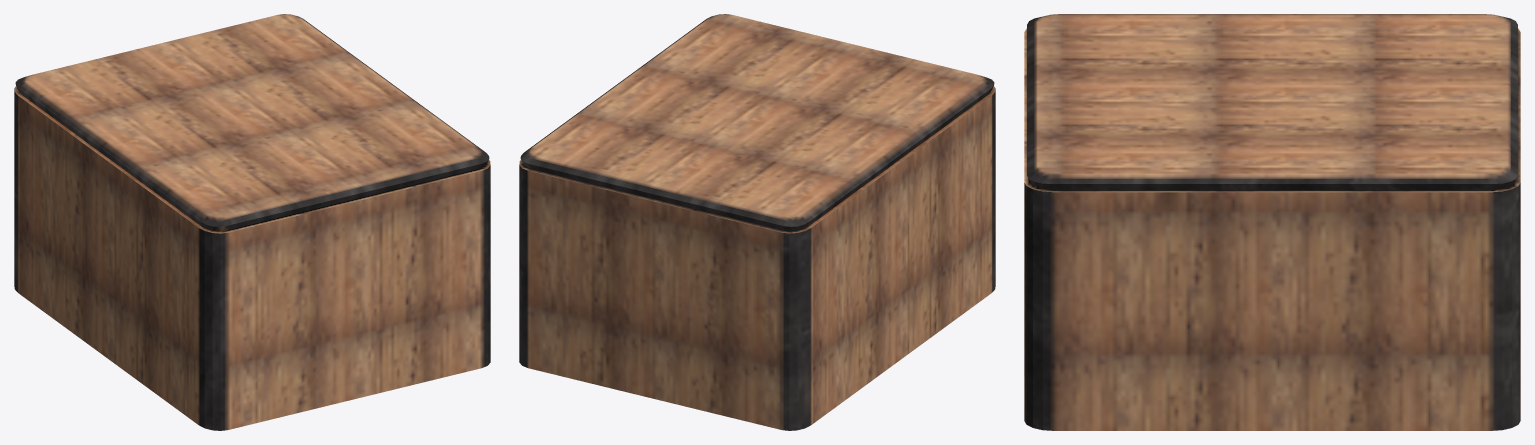
The model's file is chest.fbx.
3 renders of one model, left to right at view 1: azimuth 30°, elevation 25°; view 2: azimuth 150°, elevation 25°; view 3: azimuth 270°, elevation 25°, orthographic. The views are drawn at different scales.
Parts seen in each view (by area): view 1: chest; view 2: chest; view 3: chest.
Part boxes in pixels (x1,y1,x2,y2): chest: (14,14,490,430); chest: (519,14,995,430); chest: (1024,14,1520,430).
Bounding box in the file's own units: 19.62 × 13.52 × 24.22.
